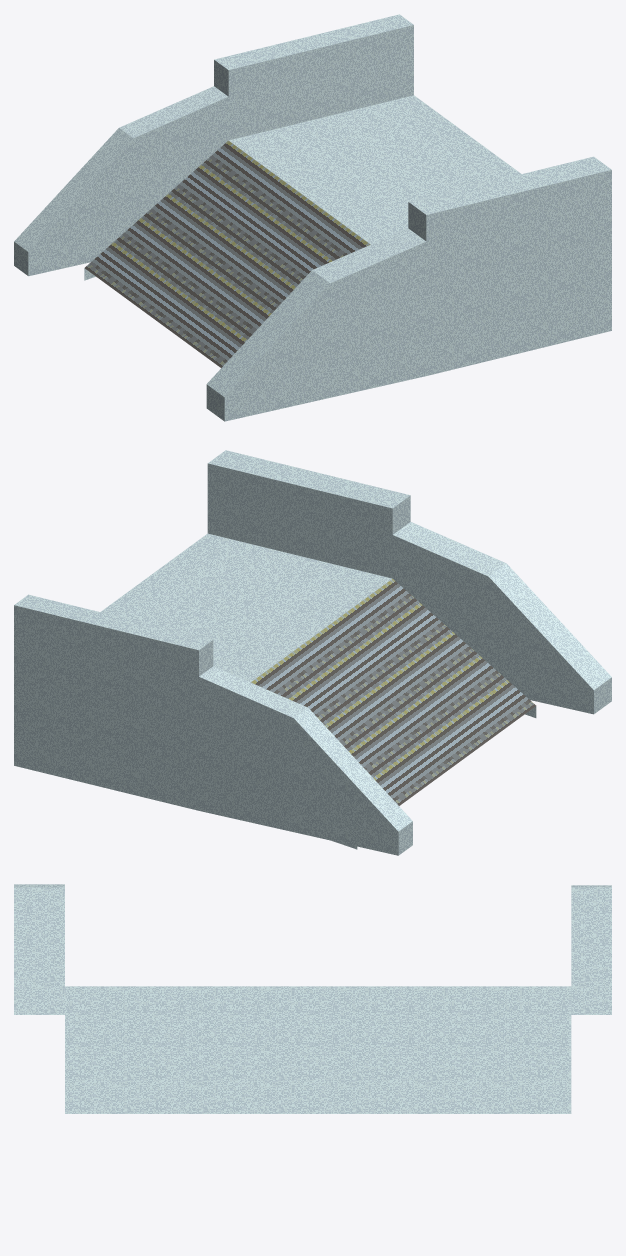
Rendered from STAIRS (1).fbx.
3 renders of one model, top to bottom at view 1: azimuth 30°, elevation 25°; view 2: azimuth 150°, elevation 25°; view 3: azimuth 270°, elevation 25°, orthographic. The views are drawn at different scales.
Parts seen in each view (by area): view 1: STAIRS__1_; view 2: STAIRS__1_; view 3: STAIRS__1_.
Part boxes in pixels (<box>): STAIRS__1_: <box>14,14,611,421</box>; STAIRS__1_: <box>14,450,611,855</box>; STAIRS__1_: <box>14,884,611,1113</box>.
Bounding box in the file's own units: 824 × 356 × 783.
Materials: 2 (2 with a texture image).
